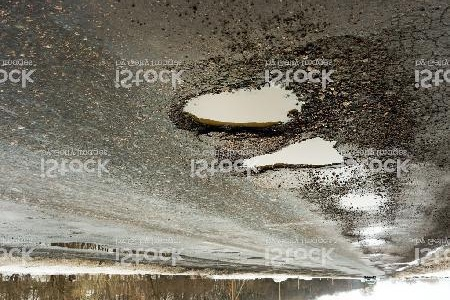pothole: (163, 74, 326, 141), (234, 136, 348, 177), (334, 190, 386, 215), (342, 224, 387, 239), (350, 239, 387, 250)
